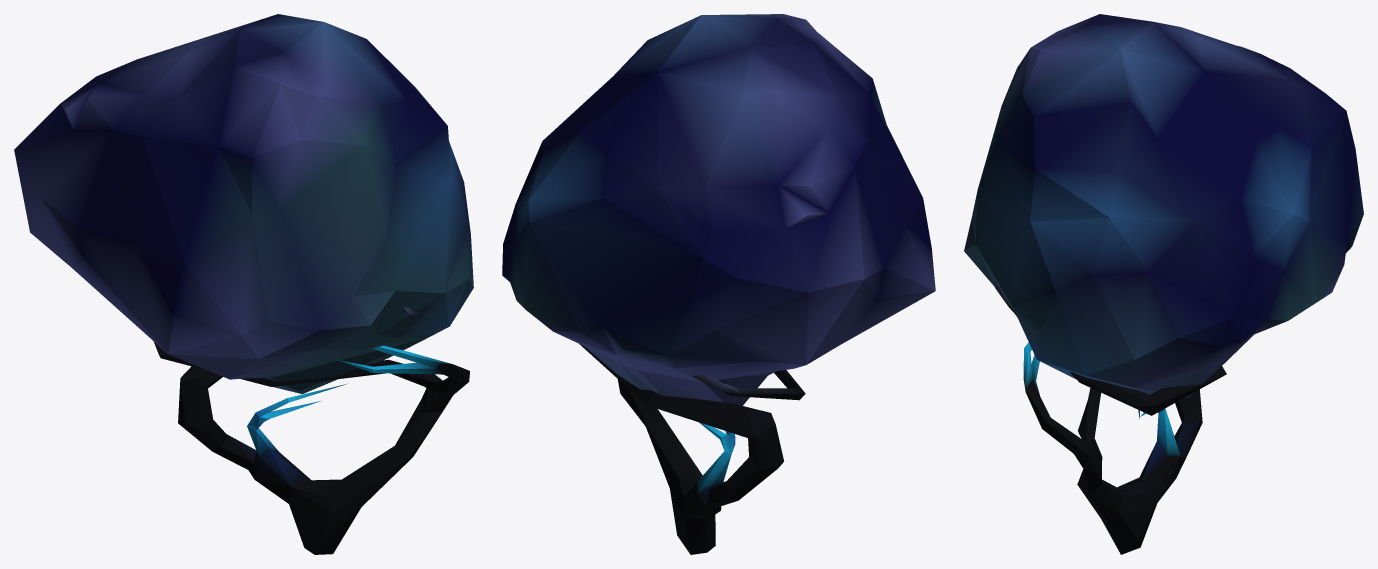
File: Myst_Tree1_W_Leaf.fbx
3 renders of one model, left to right at view 1: azimuth 30°, elevation 25°; view 2: azimuth 150°, elevation 25°; view 3: azimuth 270°, elevation 25°, orthographic. The views are drawn at different scales.
Visible parts, largest first — view 1: Vert.032; view 2: Vert.032; view 3: Vert.032.
Boxes of the visible parts, box(x1,y1,x2,y2) form: Vert.032: box(14, 14, 473, 554); Vert.032: box(502, 14, 935, 554); Vert.032: box(964, 14, 1363, 554).
Bounding box in the file's own units: 699 × 943 × 681.
